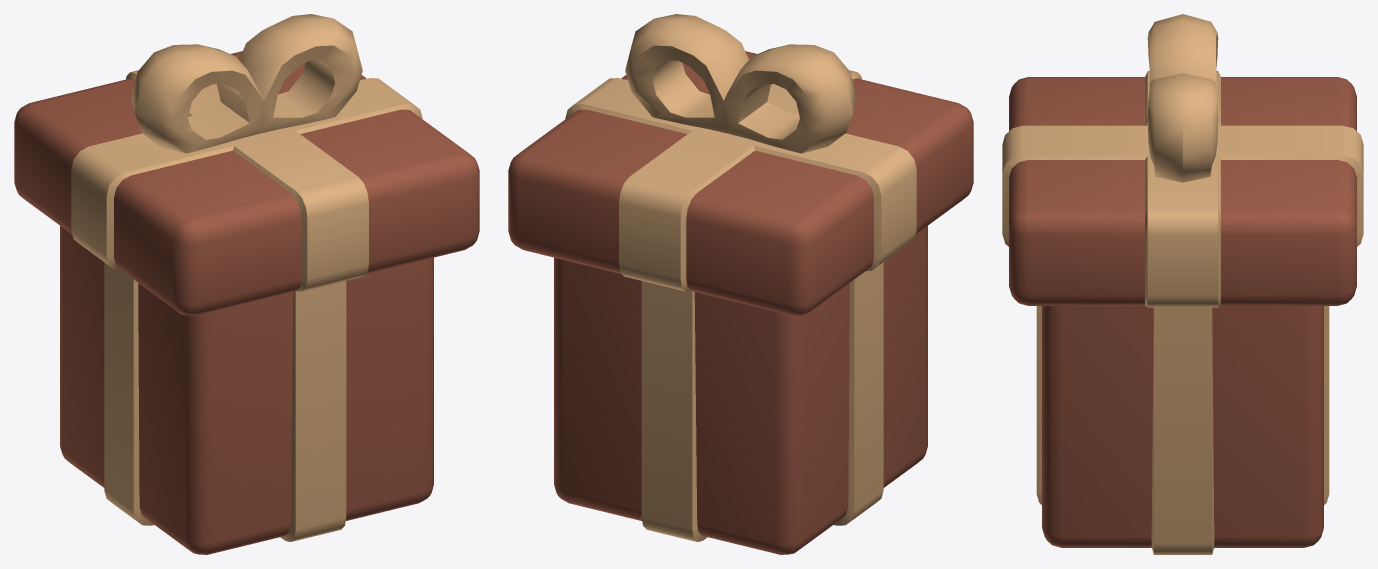
Rendered from giftD.gltf.glb.
The picture shows the model from 3 angles, left to right: view 1: azimuth 30°, elevation 25°; view 2: azimuth 150°, elevation 25°; view 3: azimuth 270°, elevation 25°; orthographic projection.
Parts seen in each view (by area): view 1: giftD; view 2: giftD; view 3: giftD.
Part boxes in pixels (box(x1,y1,x2,y2)): giftD: box(14, 14, 479, 554); giftD: box(508, 14, 973, 554); giftD: box(1002, 14, 1363, 554).
Bounding box in the file's own units: 0.7062 × 0.9639 × 0.7062.
